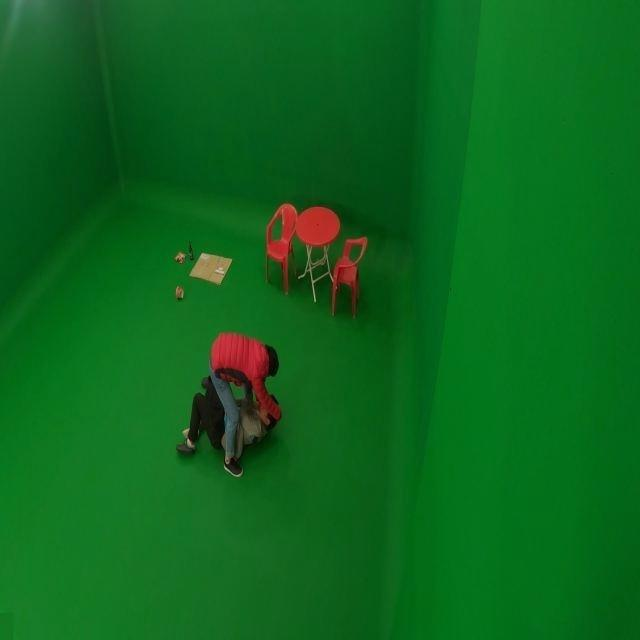fight: (173, 317, 281, 474)
